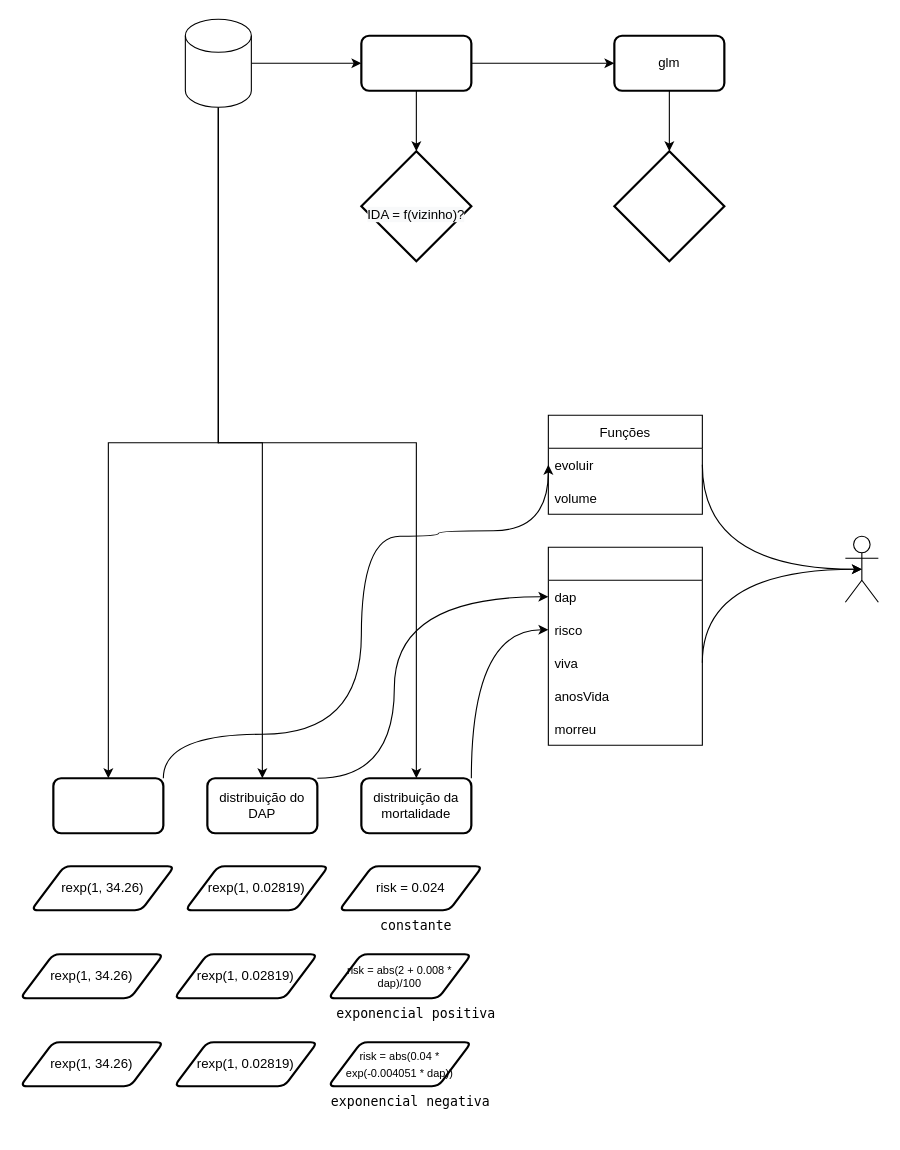
Image size: 900x1150. Some labels were removed from this diagram. Each missing label, with the box of its shape:
Atributos: (547, 546, 702, 745)
distribuição do IDAr: (52, 777, 164, 834)
IDA = f(familia, posição sociológica, luminosidade)?: (613, 150, 725, 262)
Inventários: (184, 18, 251, 107)
Object: (844, 535, 878, 602)
variogram: (360, 34, 472, 91)
